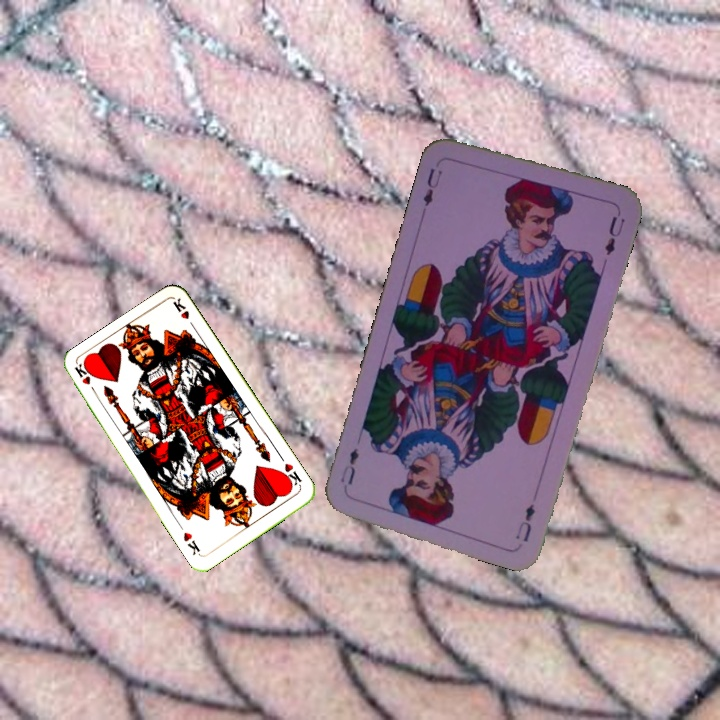EU: (511, 499, 538, 545), (419, 164, 445, 209)
HK: (71, 361, 100, 399), (277, 459, 304, 490)
